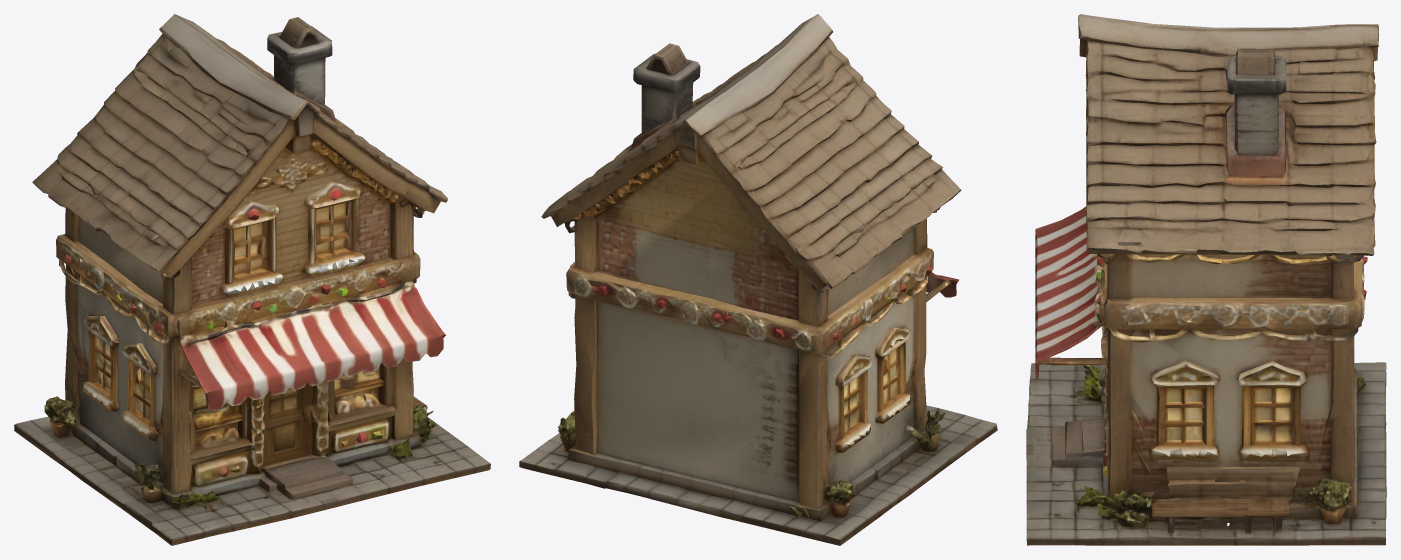
Rendered from B_BAKERY_neon.glb.
3 renders of one model, left to right at view 1: azimuth 30°, elevation 25°; view 2: azimuth 150°, elevation 25°; view 3: azimuth 270°, elevation 25°, orthographic. The views are drawn at different scales.
Parts seen in each view (by area): view 1: world; view 2: world; view 3: world.
Part boxes in pixels (x1=…): world: x1=14, y1=14, x2=490, y2=545; world: x1=519, y1=14, x2=997, y2=545; world: x1=1026, y1=14, x2=1386, y2=545.
Size of the model in its own units: 0.8505 by 1 by 0.7329.
Materials: 1 (1 with a texture image).
